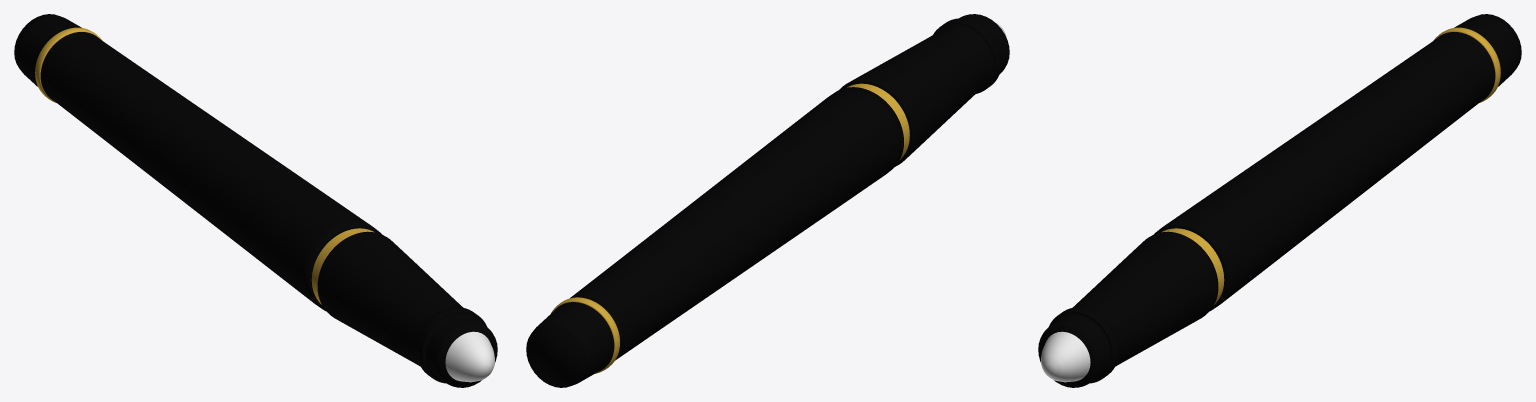
Rendered from Penna (1).fbx.
3 views of the same model, side by side, from view 1: azimuth 30°, elevation 25°; view 2: azimuth 150°, elevation 25°; view 3: azimuth 330°, elevation 25° (orthographic).
Parts seen in each view (by area): view 1: Penna, Punta; view 2: Penna; view 3: Penna, Punta.
Boxes of the visible parts, box(x1,y1,x2,y2) form: Penna: box(14, 14, 497, 387); Punta: box(445, 331, 494, 382); Penna: box(526, 14, 1009, 387); Penna: box(1038, 14, 1521, 387); Punta: box(1041, 331, 1090, 382).
Size of the model in its own units: 19.57 by 19.57 by 179.
